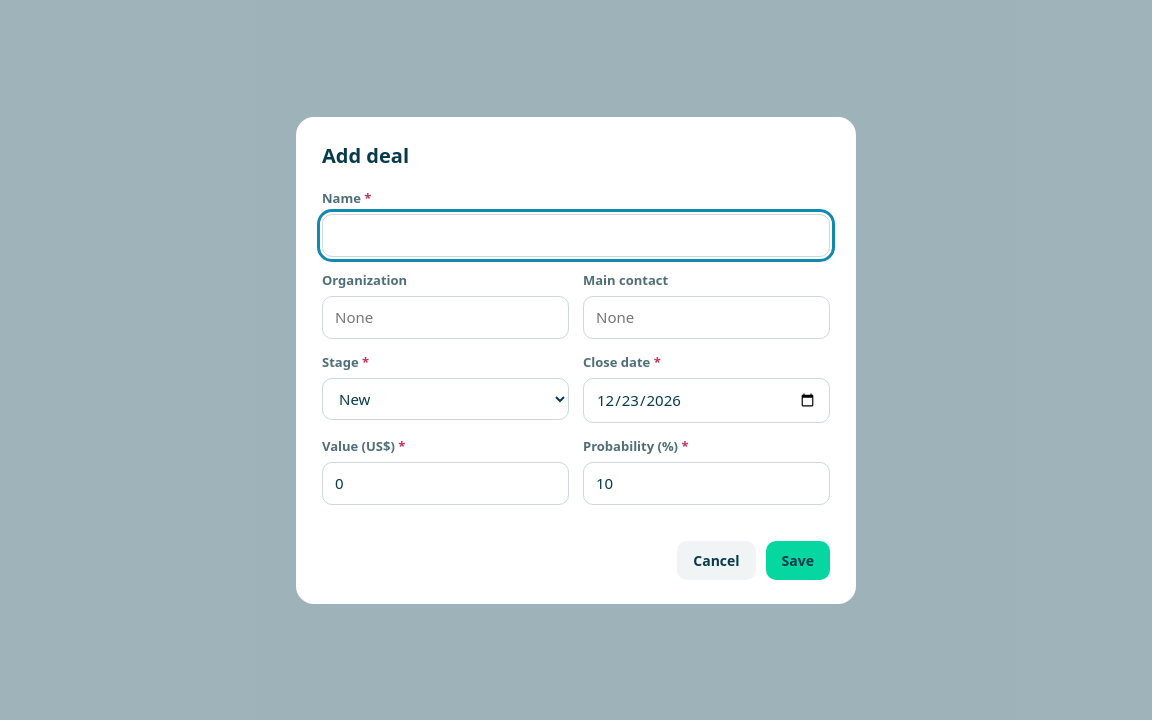
changing the stage sets the usual probability
Select "Negotiation" in the dropdown labelled "Stage *": (446, 399) [322,378,569,420]
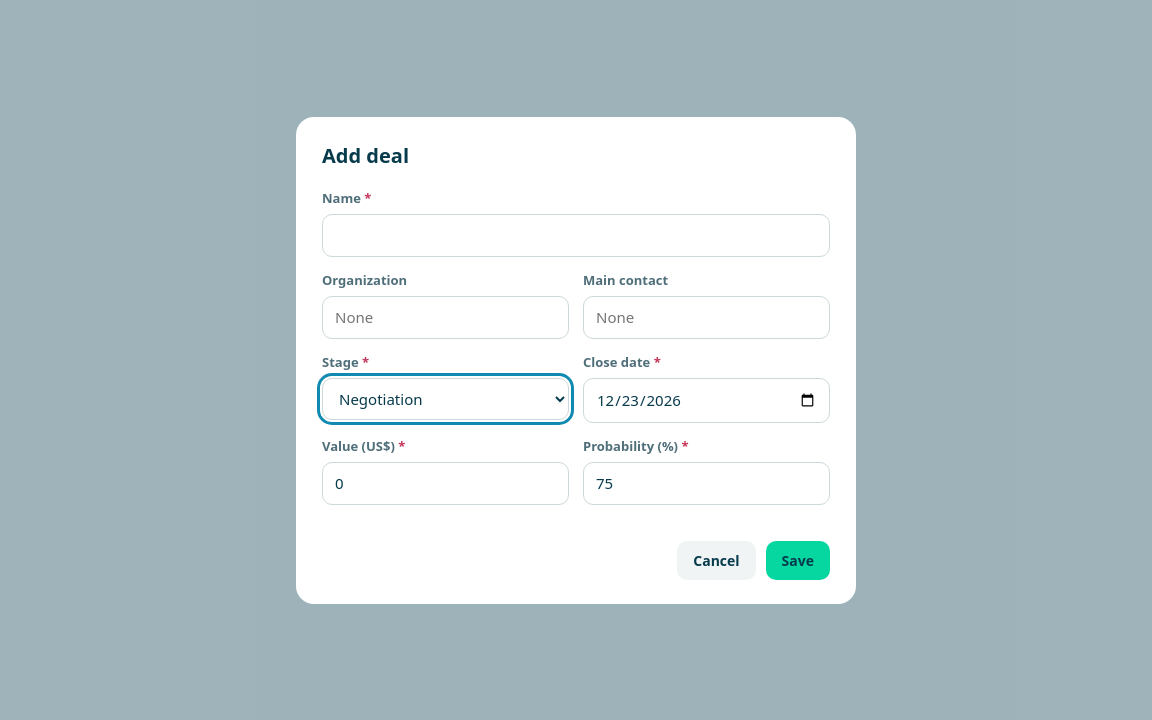
Result: the number field labelled "Probability (%) *" holds "75" at [583,462,830,504]
